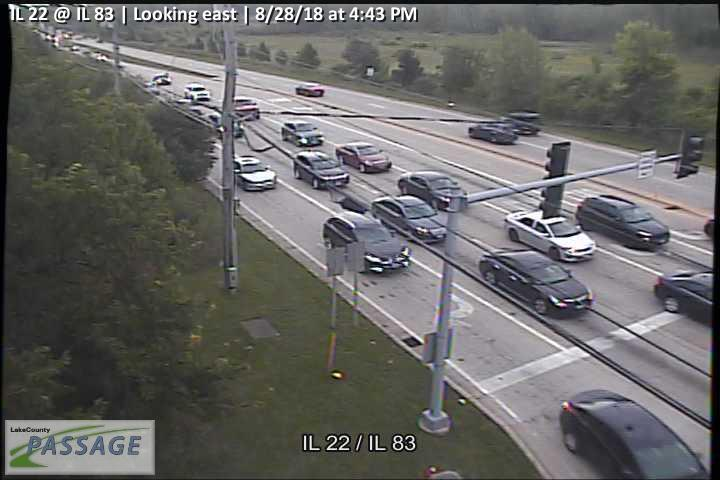SUV: (321, 211, 412, 273), (575, 194, 670, 249), (292, 150, 350, 188), (280, 120, 325, 147)
Sedan: (559, 388, 708, 480), (478, 247, 595, 316), (503, 210, 596, 262), (370, 196, 448, 243), (652, 269, 713, 315), (397, 170, 467, 210), (335, 141, 392, 173), (234, 156, 277, 191), (468, 121, 518, 143), (295, 82, 324, 97)
